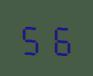five: (19, 19, 45, 55)
six: (46, 20, 72, 56)
